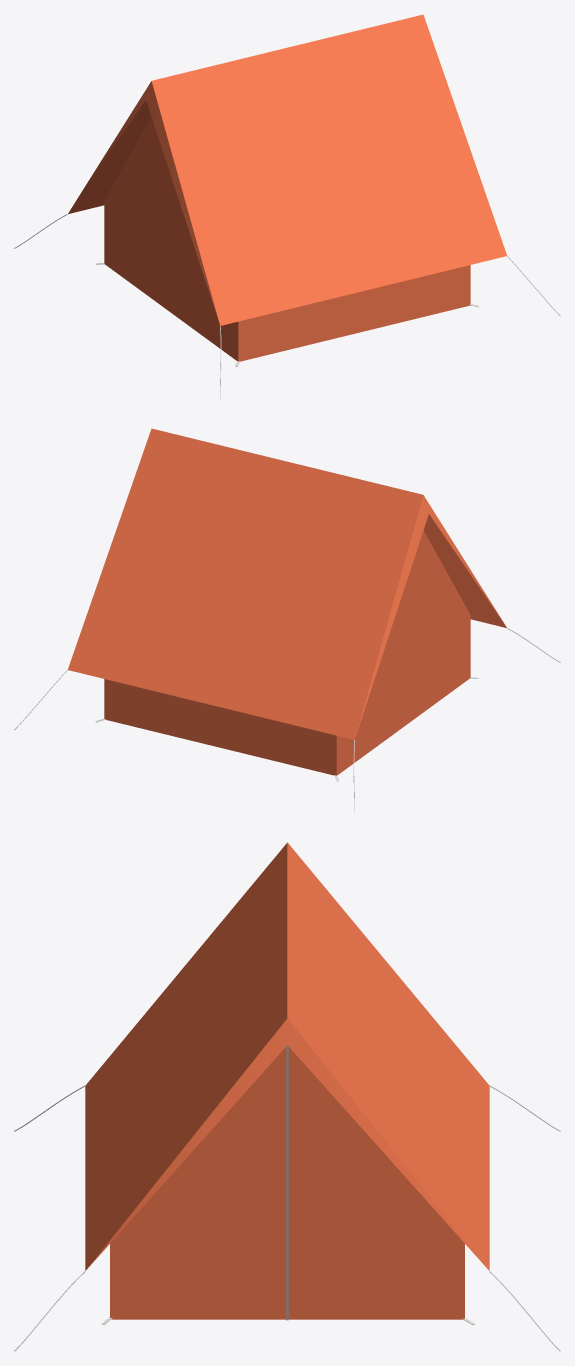
The model's file is tent.glb.
The picture shows the model from 3 angles, top to bottom: view 1: azimuth 30°, elevation 25°; view 2: azimuth 150°, elevation 25°; view 3: azimuth 270°, elevation 25°; orthographic projection. The views are drawn at different scales.
Visible parts, largest first — view 1: Cube.001, Cube; view 2: Cube.001, Cube; view 3: Cube.001, Cube, Cube.006.
Part boxes in pixels (x1,y1,x2,y2): Cube.001: [68, 14, 507, 325]; Cube: [104, 116, 470, 361]; Cube.001: [67, 428, 506, 739]; Cube: [104, 530, 470, 775]; Cube.001: [85, 842, 489, 1270]; Cube: [110, 1047, 464, 1319]; Cube.006: [286, 1045, 288, 1320].
Bounding box in the file's own units: 1.37 × 0.9136 × 1.43.
